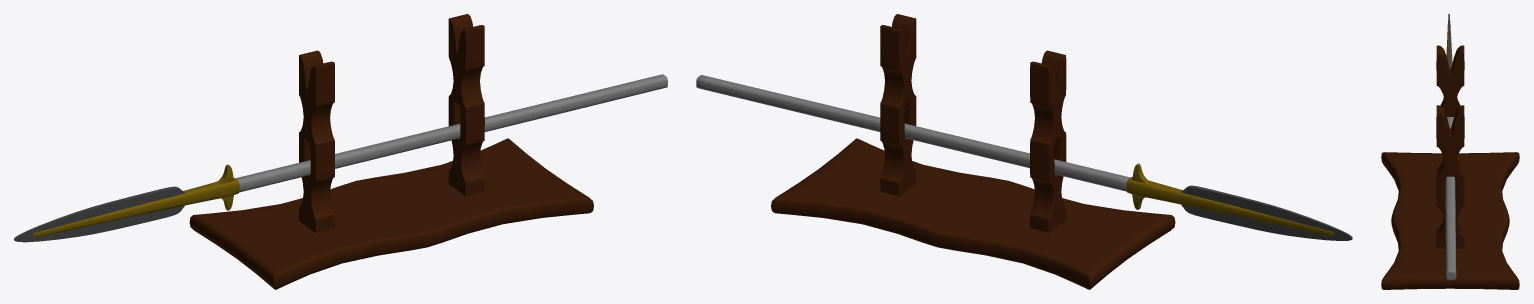
The model's file is weaponStand1.fbx.
3 views of the same model, side by side, from view 1: azimuth 30°, elevation 25°; view 2: azimuth 150°, elevation 25°; view 3: azimuth 270°, elevation 25° (orthographic). The views are drawn at different scales.
Parts seen in each view (by area): view 1: Cube.015; view 2: Cube.015; view 3: Cube.015.
Part boxes in pixels (x1,y1,x2,y2): Cube.015: (14, 14, 667, 289); Cube.015: (696, 14, 1352, 289); Cube.015: (1381, 14, 1519, 289).
Size of the model in its own units: 196 by 52.17 by 44.
